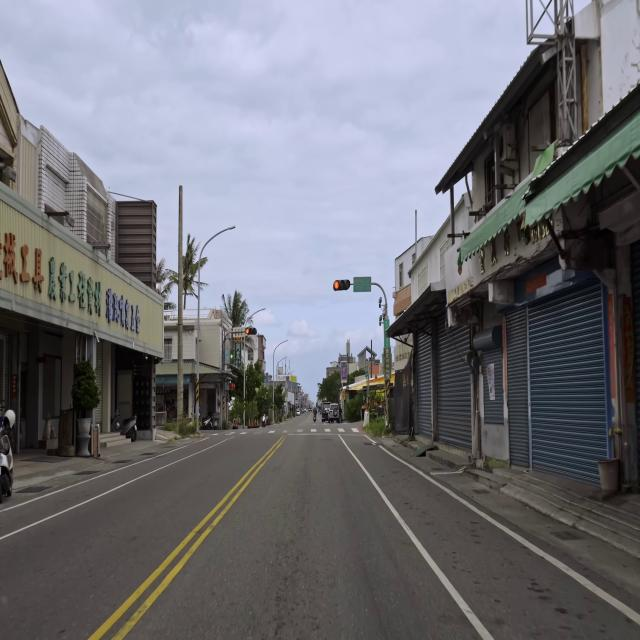red light: (332, 279, 350, 291), (246, 328, 257, 335)
